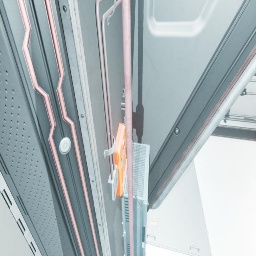EmergencyPhone ,: (121, 84, 134, 159)
FireAlarm ,: (114, 123, 126, 196)
